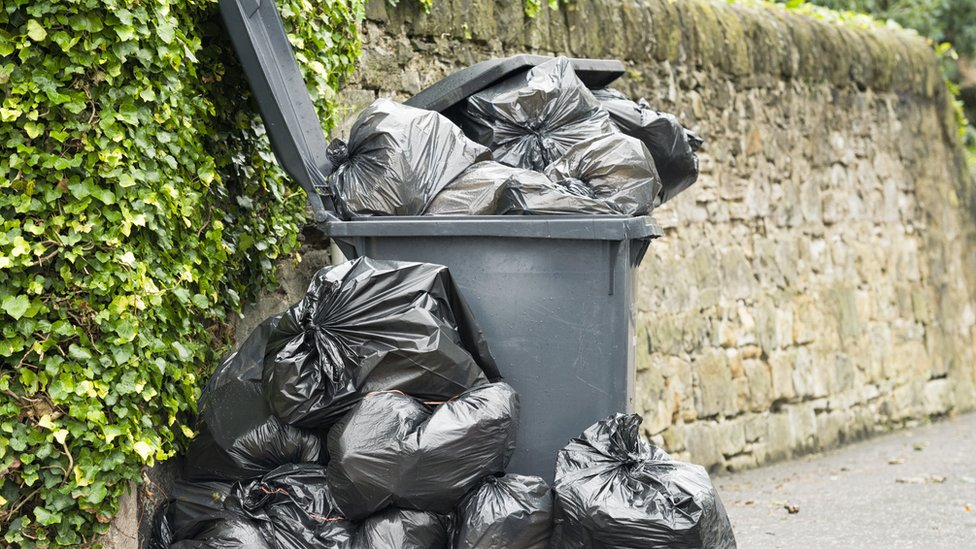plastic_bagwdw: (113, 212, 543, 473), (530, 349, 774, 549), (92, 399, 369, 549), (371, 382, 617, 549), (537, 96, 737, 286), (299, 73, 474, 270), (415, 122, 586, 279), (427, 40, 617, 153), (333, 451, 453, 549), (541, 56, 574, 82)
